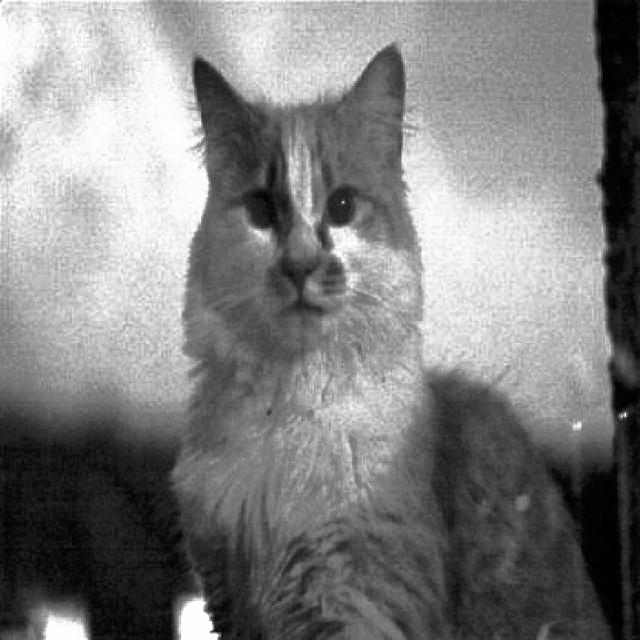Cat: (166, 41, 618, 640)
